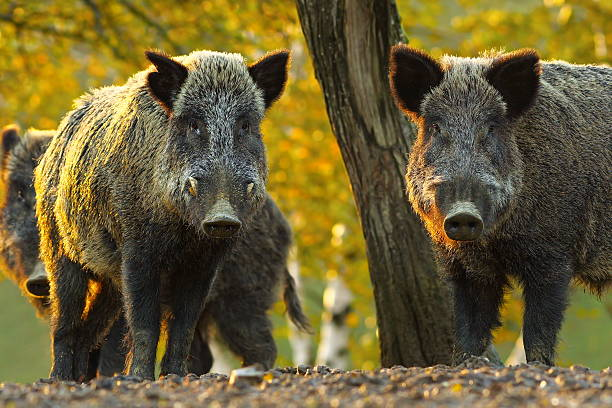pig: (33, 56, 293, 354), (388, 33, 612, 373)
